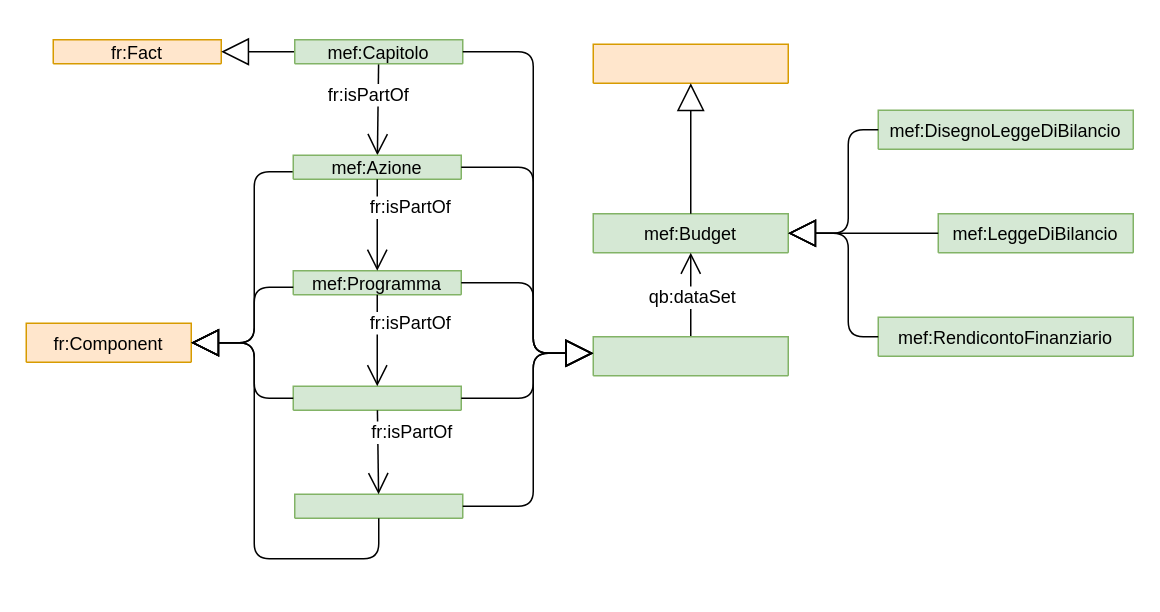
This 1160x612 diagram has some shape labels left out. The centre of each missing label's shape, as x and y in pixels:
"fr:FinancialReport" goes at pixel 690 63.
"mef:BudgetComponent" goes at pixel 690 355.
"mef:Ministero" goes at pixel 378 505.
"mef:Missione" goes at pixel 376 397.
